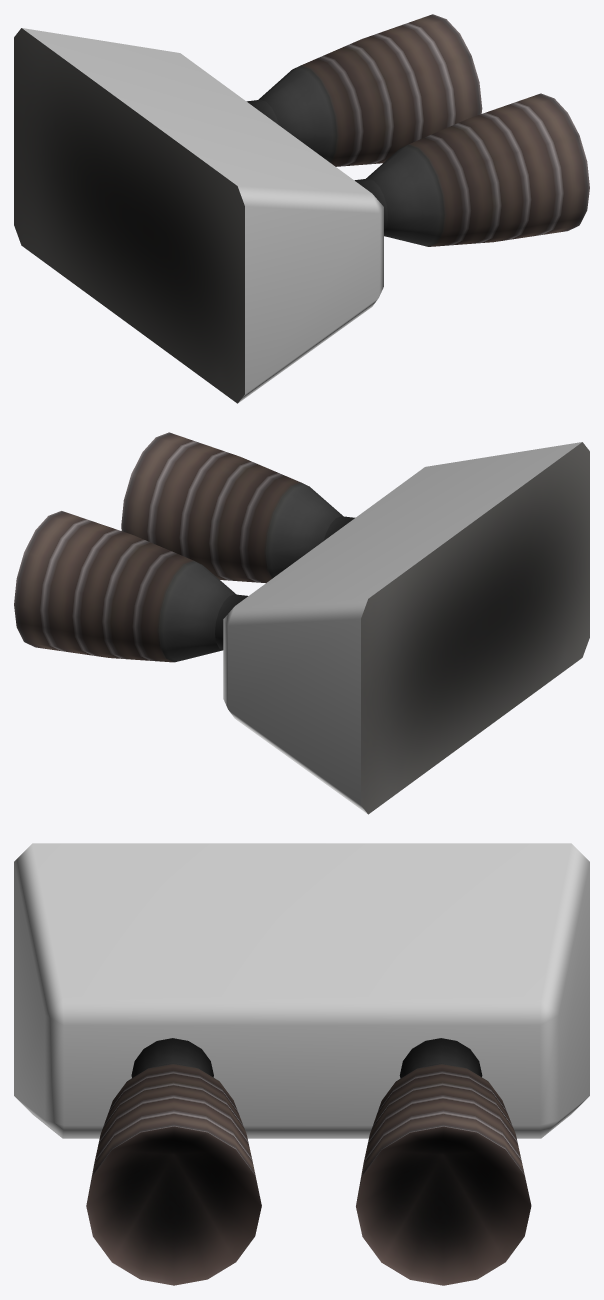
The model's file is Apollo_Block3_LinearRCS.dae.
3 views of the same model, one above another, from view 1: azimuth 30°, elevation 25°; view 2: azimuth 150°, elevation 25°; view 3: azimuth 270°, elevation 25° (orthographic). The views are drawn at different scales.
Parts seen in each view (by area): view 1: polySurface90, polySurface91; view 2: polySurface90, polySurface91; view 3: polySurface91, polySurface90.
Part boxes in pixels (box(x1,y1,x2,y2)): polySurface90: box(14, 14, 589, 403); polySurface91: box(22, 28, 383, 403); polySurface90: box(14, 432, 589, 814); polySurface91: box(223, 442, 581, 813); polySurface91: box(14, 843, 589, 1138); polySurface90: box(86, 1038, 531, 1285).
Size of what is drawn, in the model's own units: 0.3244 by 0.1803 by 0.3469.
